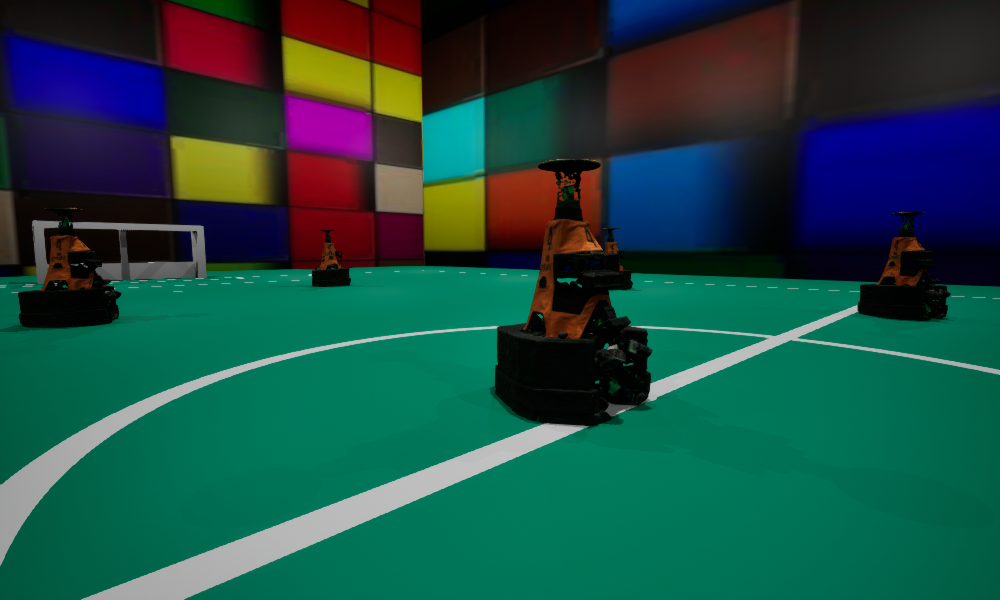0 orange robot TechUnited: (495, 159, 652, 425), (18, 208, 121, 327), (858, 212, 950, 320), (312, 230, 350, 286), (603, 228, 632, 289)
